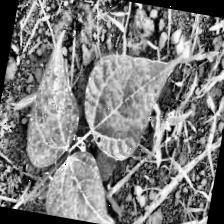ALS: (77, 44, 176, 164), (14, 39, 90, 171), (39, 144, 129, 224)
